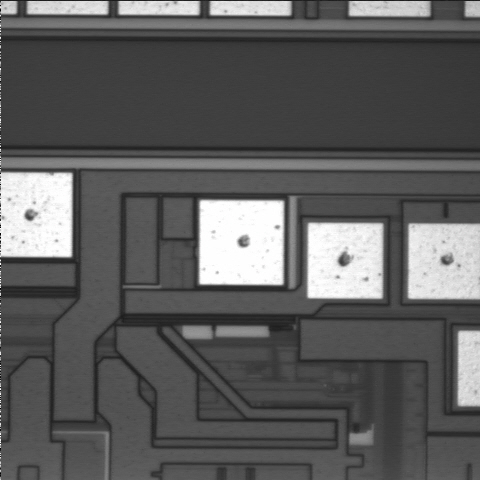pad: (199, 200, 284, 285), (307, 223, 383, 299)
